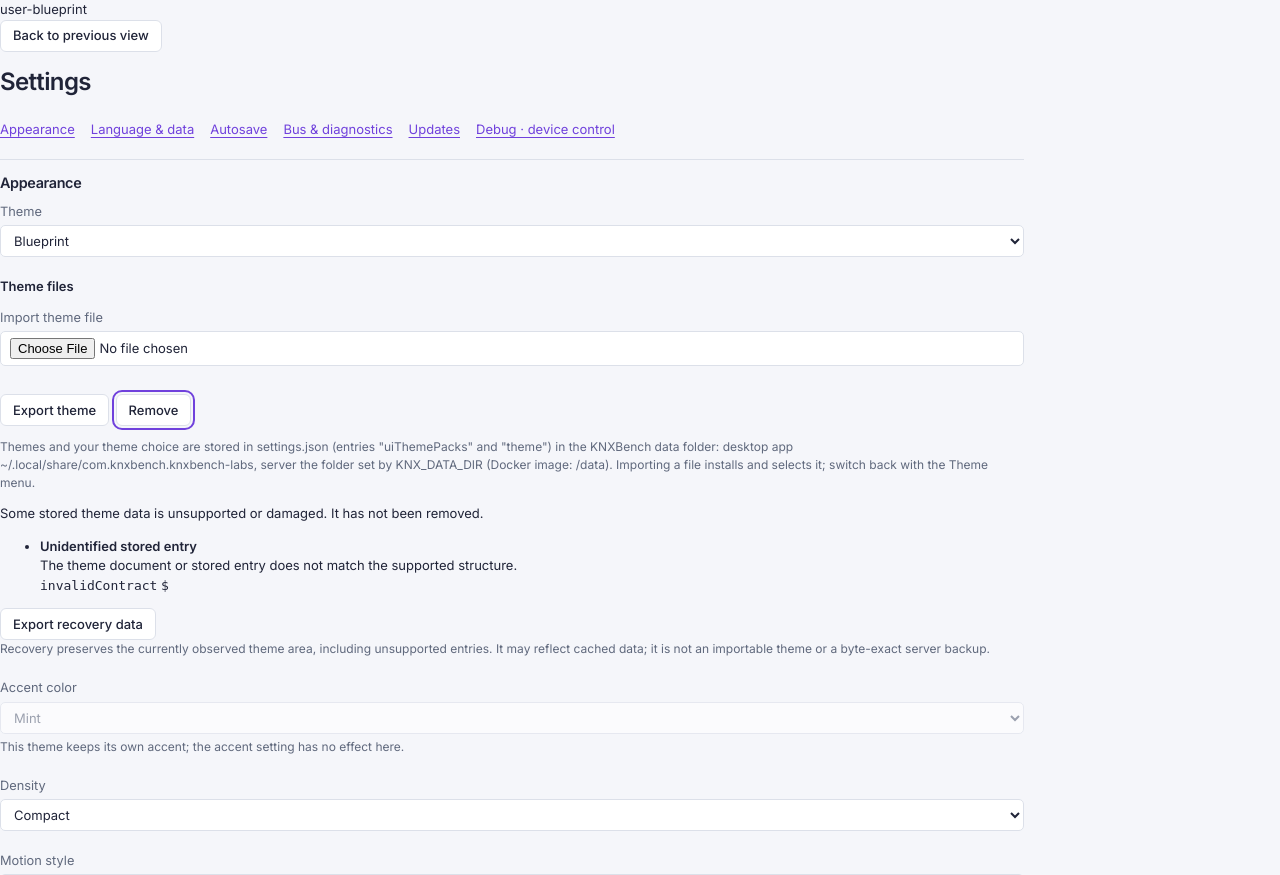
it: Appearance theme files through the actual parent/runtime › removes the selected pack only after explicit confirmation and atomically falls back to System
Step 1. Click the button "Remove" → click(154, 410), box top-left (116, 394), bottom-right (192, 426)
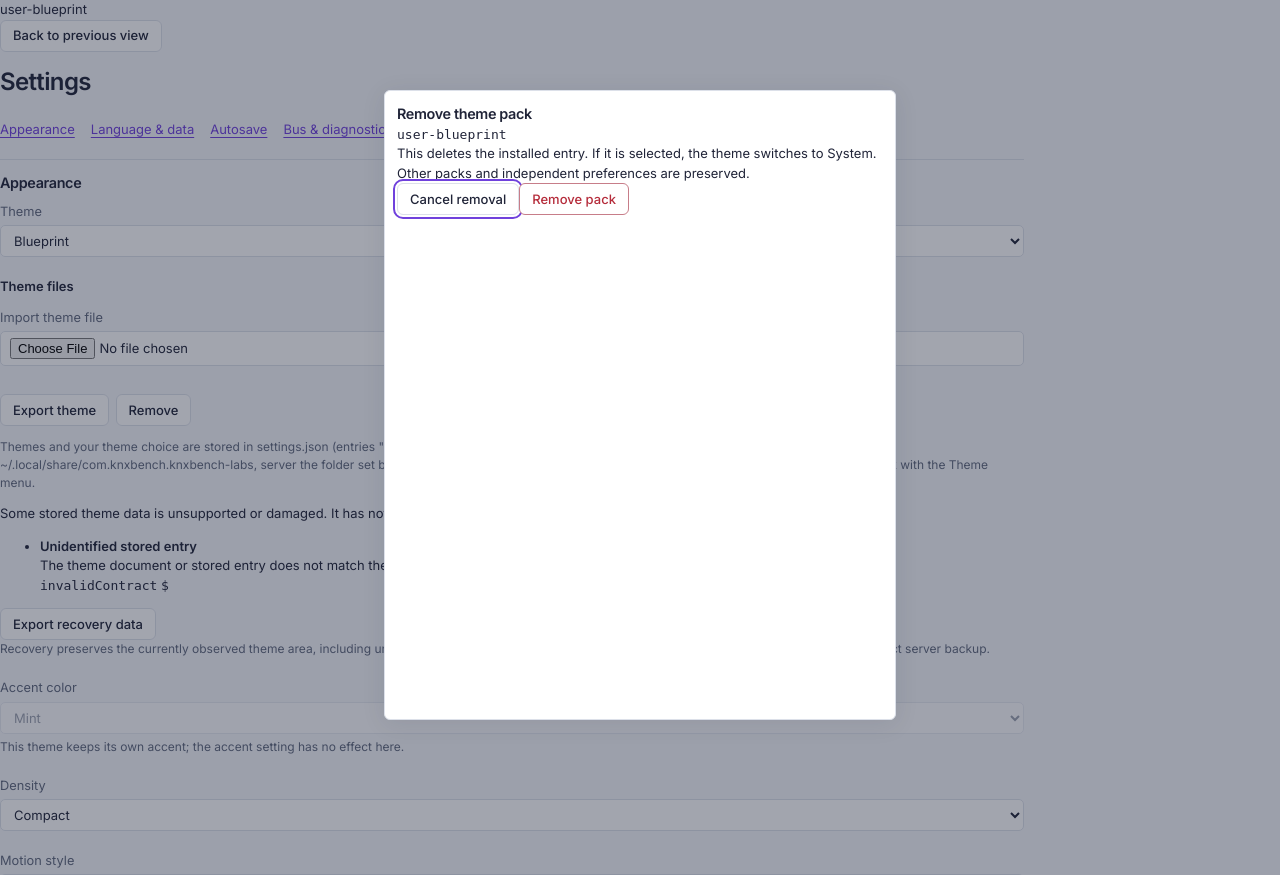
Result: the dialog named "Remove theme pack" is shown at top-left (384, 90), bottom-right (896, 720)
Result: the dialog named "Remove theme pack" shows "user-blueprint" at top-left (397, 127), bottom-right (507, 142)
Result: the dialog named "Remove theme pack" shows "System" at top-left (397, 145), bottom-right (876, 181)
Step 2. Click the button "Remove pack" → click(574, 199), box top-left (519, 183), bottom-right (629, 215)
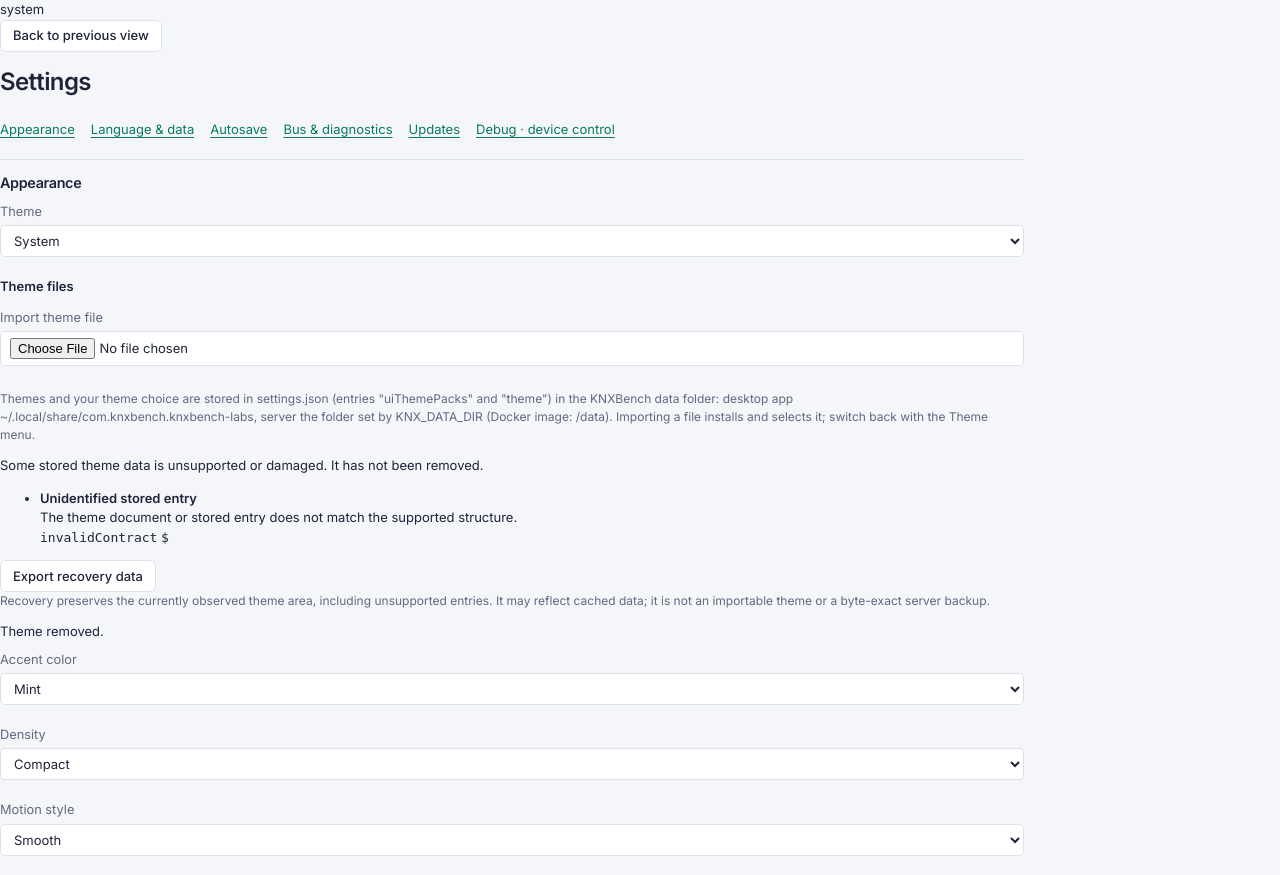
Expected: the text "system" is shown, top-left (0, 1), bottom-right (44, 17)
Result: the text "Theme removed." is shown at top-left (0, 624), bottom-right (104, 640)
